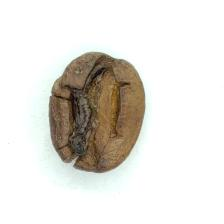NG: (69, 59, 126, 161)
